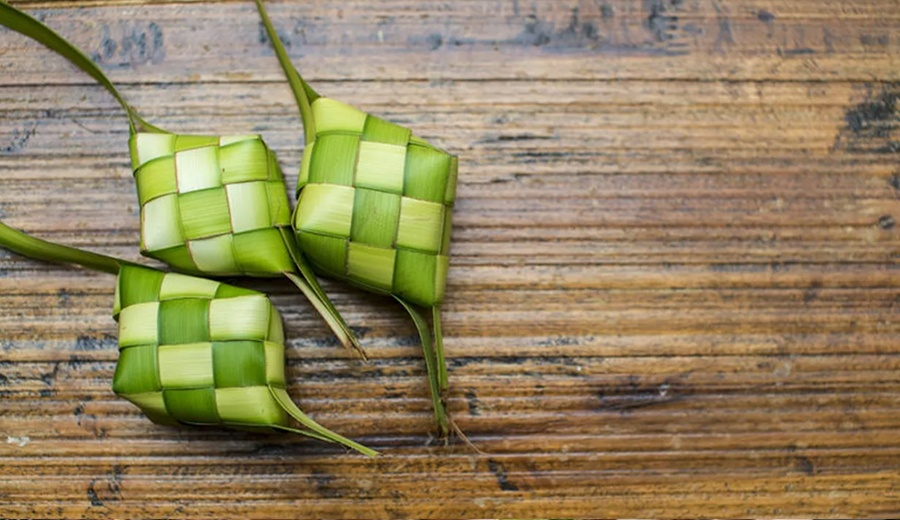ketupat: (291, 97, 457, 306), (111, 264, 291, 435), (127, 130, 295, 273)
